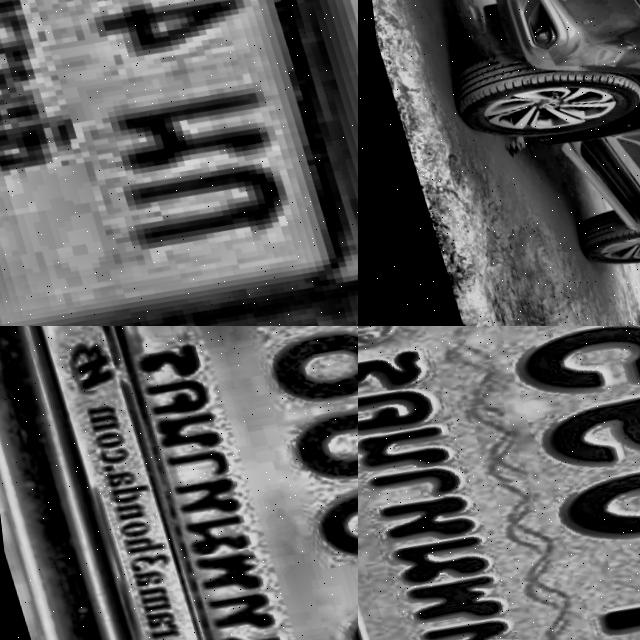license-plate: (0, 0, 358, 326), (0, 326, 358, 640), (358, 326, 640, 640)
